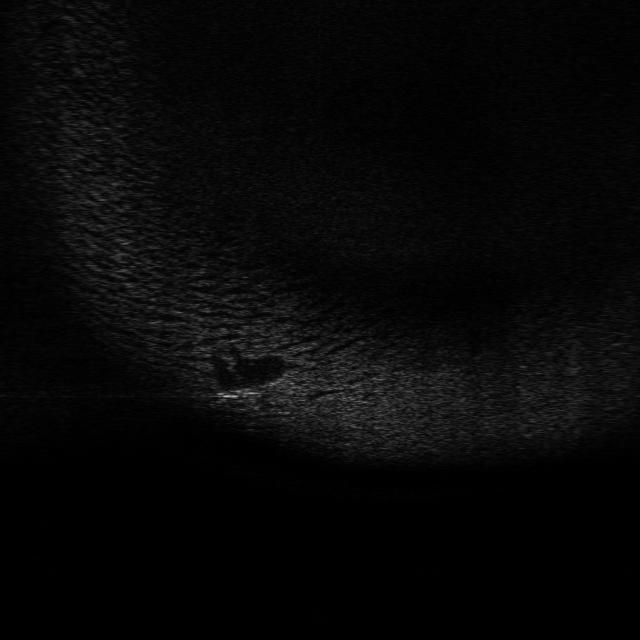plane: (212, 370, 290, 407)
